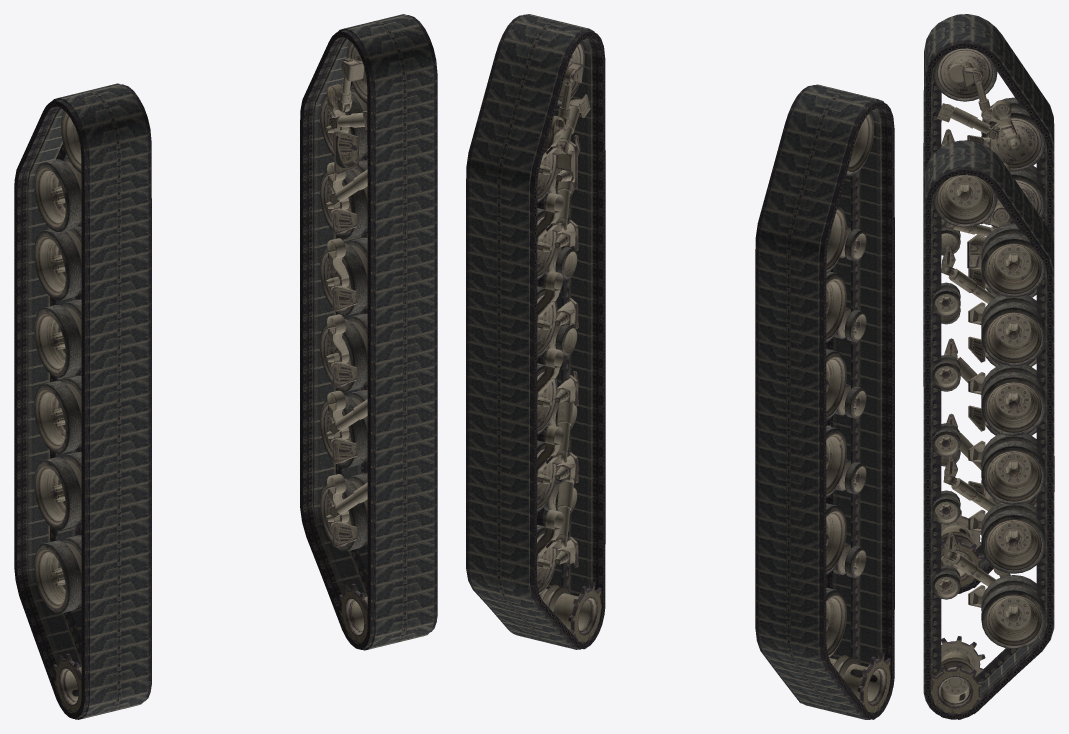
The model's file is Chassis.glb.
3 views of the same model, side by side, from view 1: azimuth 30°, elevation 25°; view 2: azimuth 150°, elevation 25°; view 3: azimuth 270°, elevation 25° (orthographic). The views are drawn at different scales.
Parts seen in each view (by area): view 1: set_1_group_0, set_0_group_0, set_2_group_0, set_3_group_0; view 2: set_1_group_0, set_0_group_0, set_2_group_0, set_3_group_0; view 3: set_2_group_0, set_0_group_0, set_3_group_0, set_1_group_0.
Boxes of the visible parts, x1=… form: set_1_group_0: x1=14, y1=83, x2=151, y2=719; set_0_group_0: x1=300, y1=14, x2=437, y2=650; set_2_group_0: x1=320, y1=41, x2=436, y2=649; set_3_group_0: x1=34, y1=111, x2=151, y2=719; set_1_group_0: x1=755, y1=84, x2=894, y2=719; set_0_group_0: x1=466, y1=14, x2=605, y2=649; set_2_group_0: x1=510, y1=41, x2=601, y2=649; set_3_group_0: x1=799, y1=112, x2=890, y2=719; set_2_group_0: x1=924, y1=174, x2=1045, y2=719; set_0_group_0: x1=923, y1=140, x2=1054, y2=719; set_3_group_0: x1=933, y1=48, x2=1045, y2=593; set_1_group_0: x1=923, y1=14, x2=1054, y2=593.
Size of the model in its own units: 3.73 by 6.19 by 1.33.
4 materials, 4 textured.
